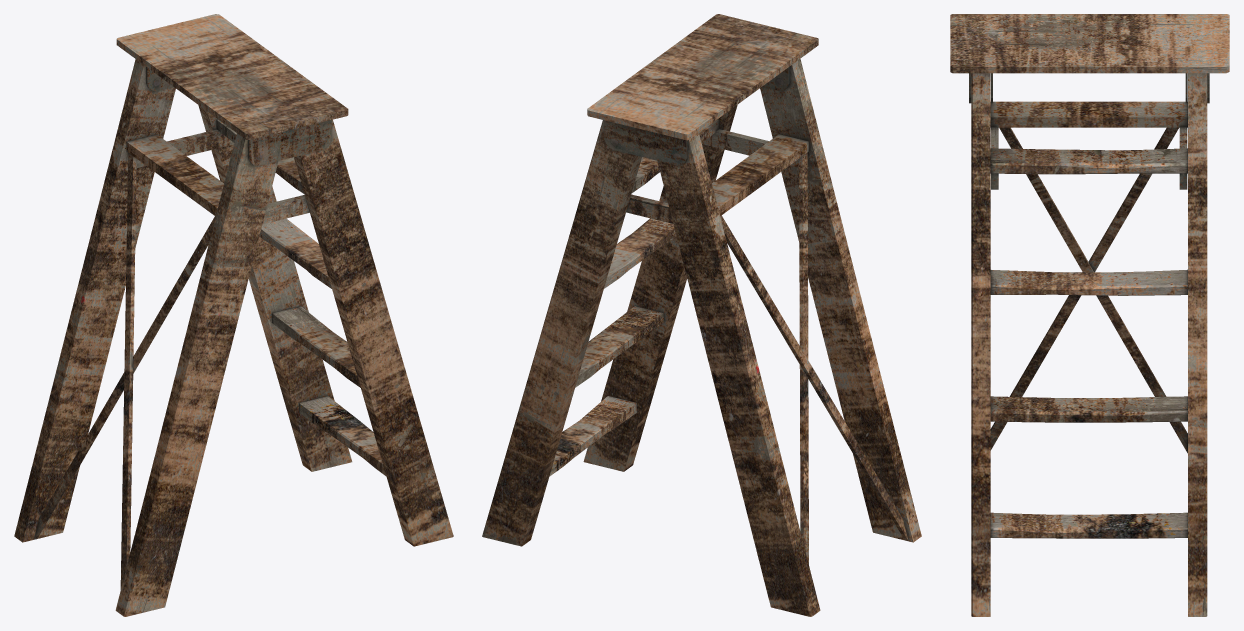
The model's file is garage_stool_01.FBX.
The picture shows the model from 3 angles, left to right: view 1: azimuth 30°, elevation 25°; view 2: azimuth 150°, elevation 25°; view 3: azimuth 270°, elevation 25°; orthographic projection. The views are drawn at different scales.
Visible parts, largest first — view 1: garage_stool_01; view 2: garage_stool_01; view 3: garage_stool_01.
Part boxes in pixels (<box>): garage_stool_01: <box>14,14,453,616</box>; garage_stool_01: <box>482,14,921,616</box>; garage_stool_01: <box>950,14,1229,616</box>.
Size of the model in its own units: 0.5753 by 0.771 by 0.3974.
